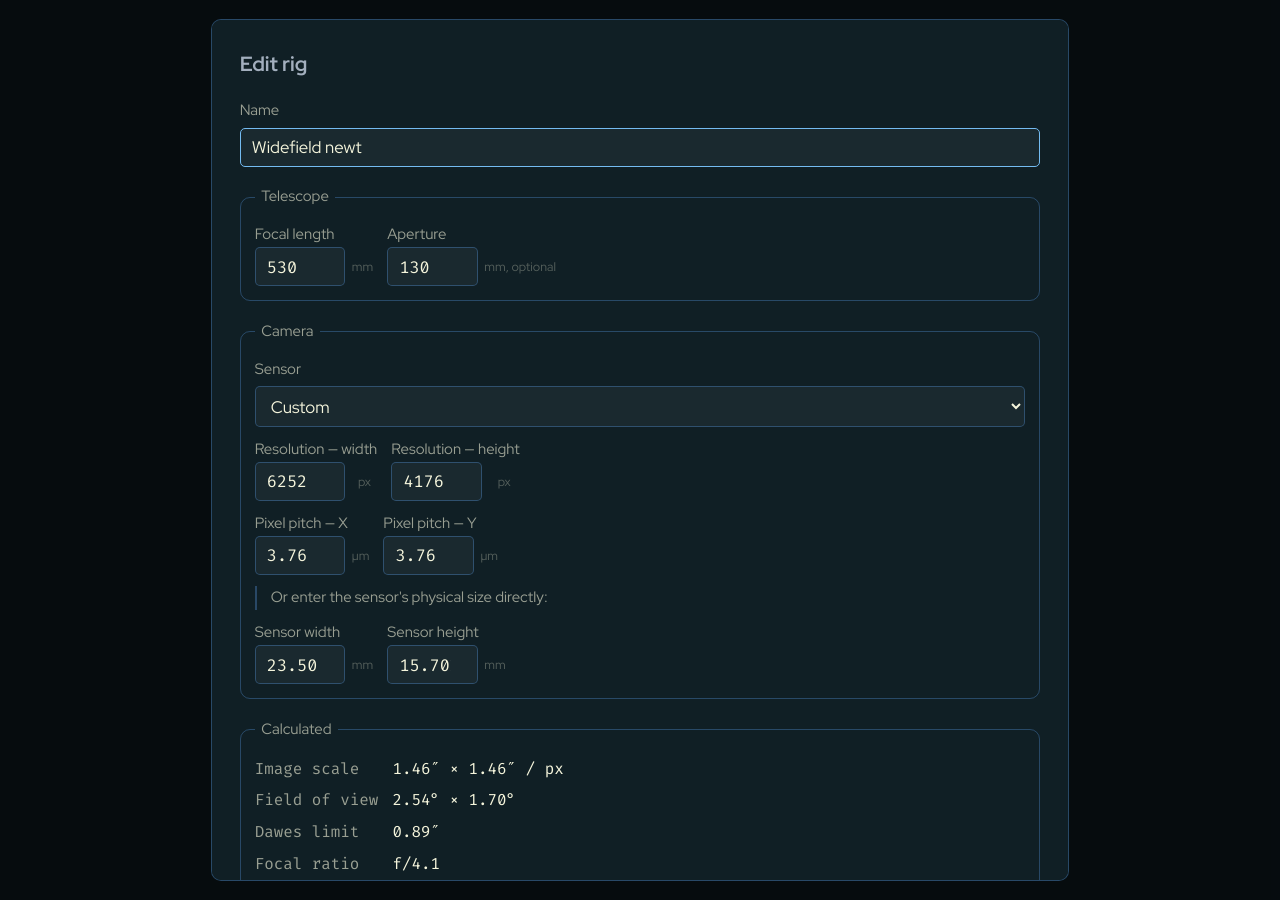
it: validation › rejects a zero focal length
The image size is (1280, 900).
Replace the text in the number field labelled "Focal length mm" with "0" at (300, 266), box [255,247,345,286]
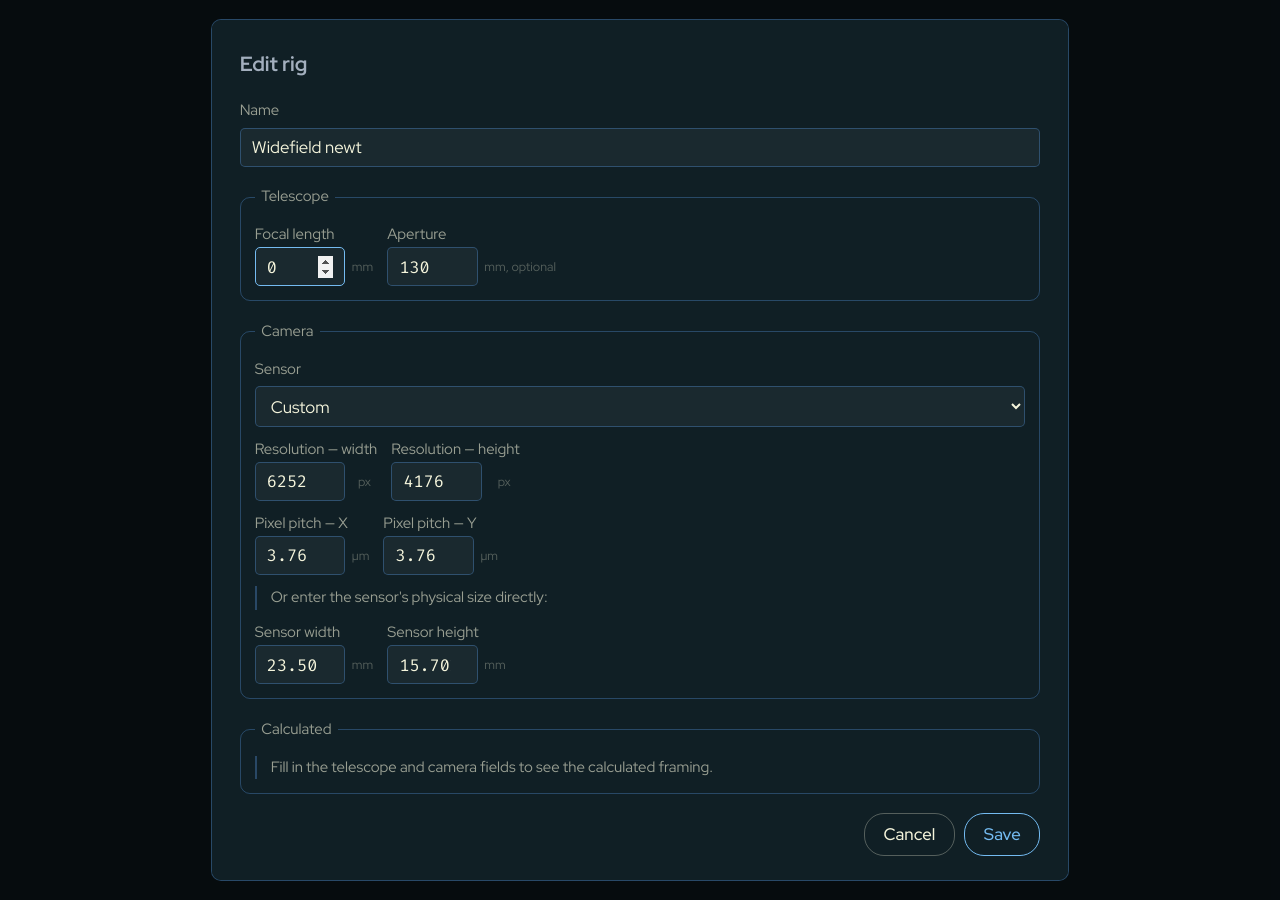
Click the button "Save".
click(1002, 834)  # box [964,813,1040,856]
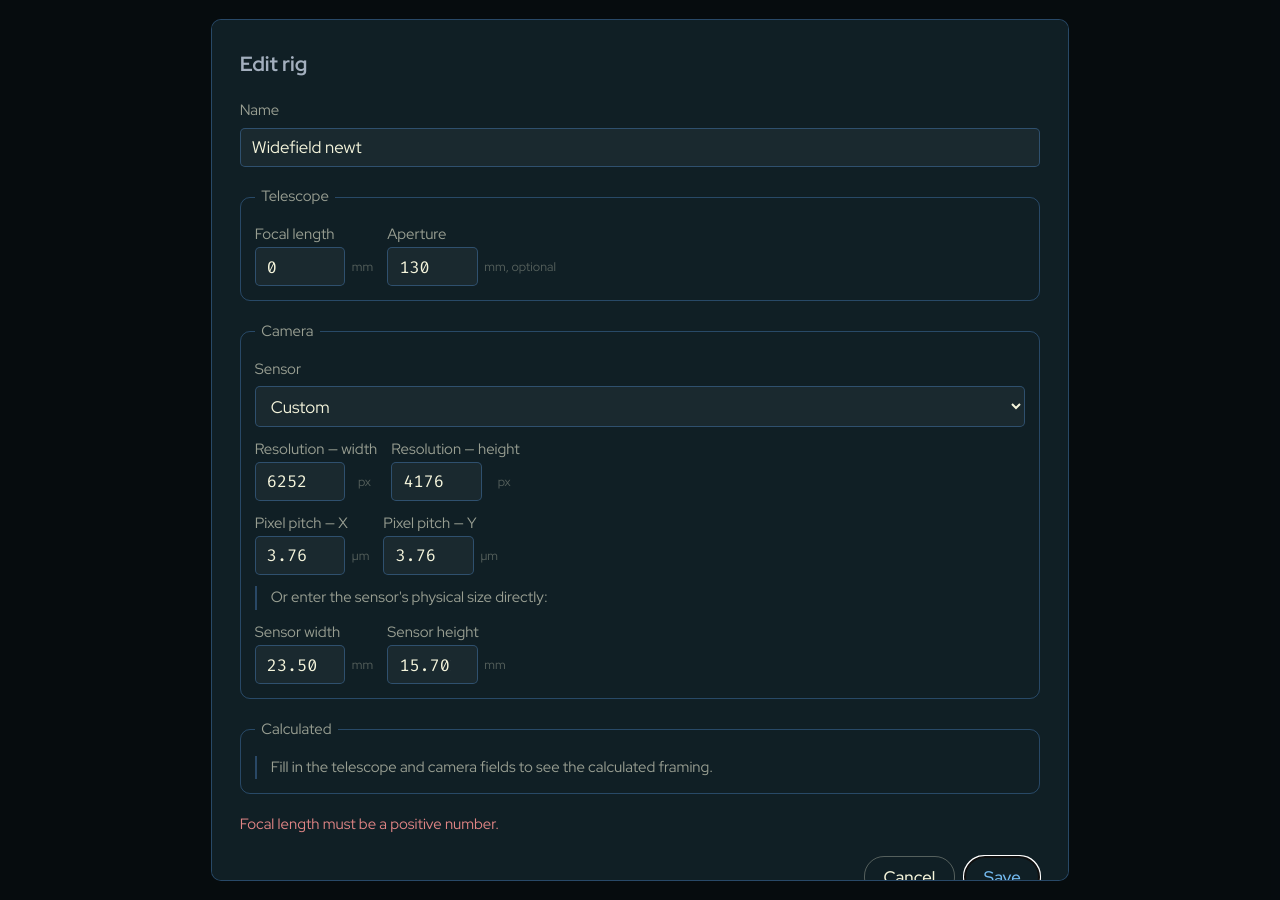
Expected: the message shows "Focal length", [240,814,499,834]
